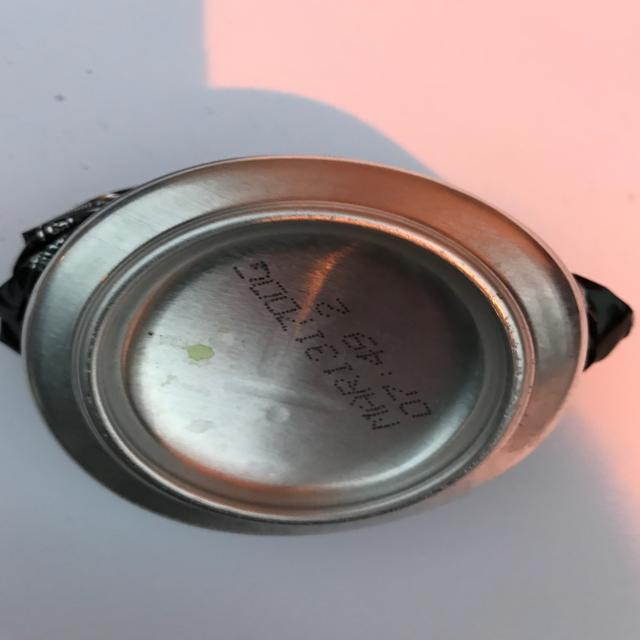metal: (0, 153, 633, 533)
